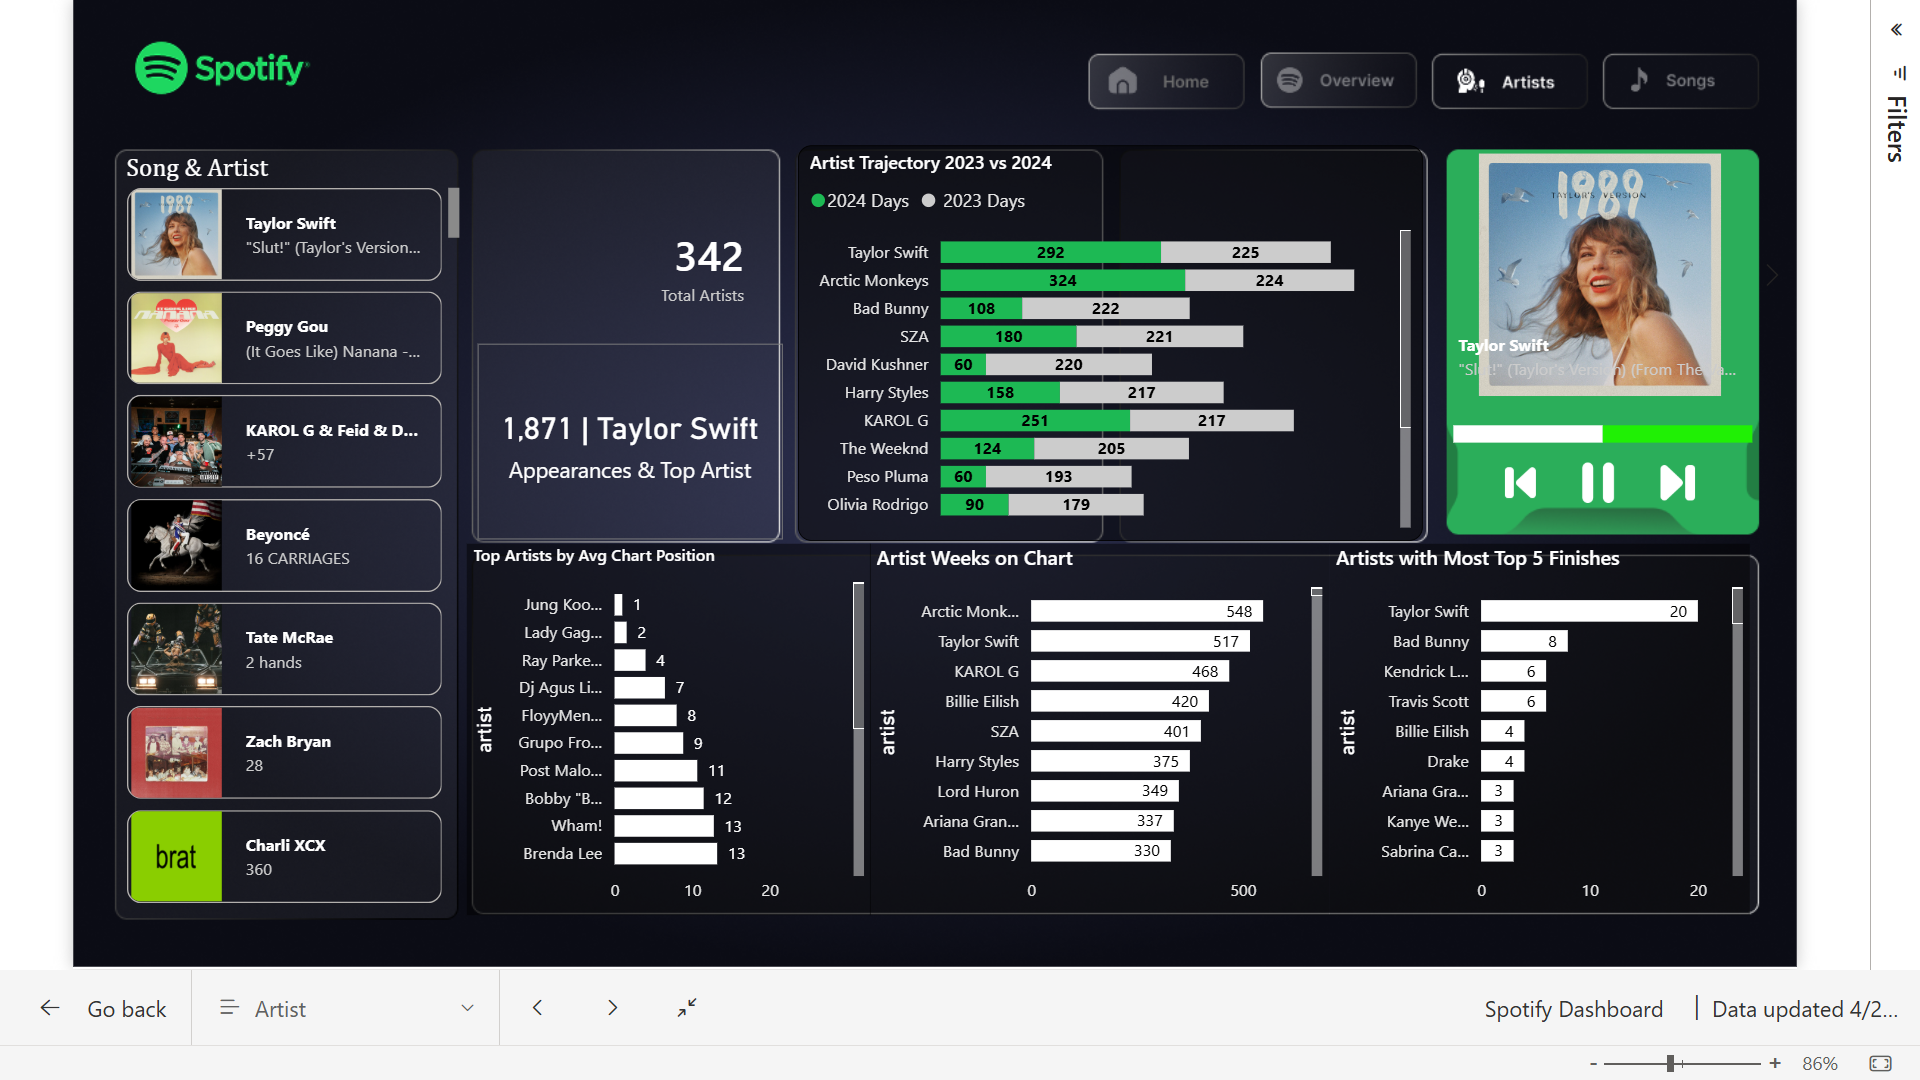

Layout of this report page (visuals, bound fields, positions):
{"tool":"powerbi","page":{"name":"Artist","canvas":[1280,720],"ordinal":2},"visuals":[{"type":"actionButton","box":[749.5,39.8,109.4,44.8],"z":0},{"type":"actionButton","box":[875.9,37,116.1,41.5],"z":1000},{"type":"actionButton","box":[1003.5,37,97.8,41.5],"z":2000},{"type":"actionButton","box":[1129.6,40.3,116.1,44.8],"z":3000},{"type":"advancedSlicerVisual","title":"Song & Artist","fields":{"Values":["Top-50-world.song"]},"box":[991.5,107.8,286.8,192.3],"z":4000},{"type":"hundredPercentStackedBarChart","fields":{"Y":["_measure.Avg Popularity Explicit","Avg(Top-50-world.popularity)"]},"box":[1019.7,285.2,232.1,66.3],"z":5000},{"type":"image","box":[1112.6,343.1,39.8,29.8],"z":6000},{"type":"image","box":[1061.2,343.1,26.5,29.8],"z":7000},{"type":"image","box":[1172.3,343.1,39.8,29.8],"z":8000},{"type":"shape","box":[1003.1,107.8,275.2,295.1],"z":9000},{"type":"clusteredBarChart","title":"Top Artists by Avg Chart Position","fields":{"Category":["Top-50-world.artist"],"Y":["_measure.Avg Position"]},"box":[292,404.3,300.2,275.7],"z":10000},{"type":"clusteredBarChart","title":"Artist Weeks on Chart","fields":{"Category":["Top-50-world.artist"],"Y":["_measure.Weeks on Chart"]},"box":[592.1,404.3,341,275.7],"z":11000},{"type":"clusteredBarChart","title":"Artists with Most Top 5 Finishes","fields":{"Category":["Top-50-world.artist"],"Y":["_measure.#1 Hits"]},"box":[933.1,404.3,312.4,275.7],"z":12000},{"type":"advancedSlicerVisual","title":"Song & Artist","fields":{"Values":["Top-50-world.song"]},"box":[34.8,112.8,257,567.1],"z":13000},{"type":"cardVisual","title":"Total Art","fields":{"Data":["_measure.Total Unique Artists"]},"box":[289.9,228.7,236.7,172.3],"z":14000},{"type":"barChart","title":"Artist Trajectory 2023 vs 2024","fields":{"Category":["Top-50-world.artist"],"Y":["_measure.Artist Days 2024","_measure.Artist Days 2023"]},"box":[538.9,107.8,464.3,293.5],"z":15000},{"type":"card","fields":{"Values":["Top Artist.Most Appearances Card1"]},"box":[299.5,0,227.1,144.9],"z":16001}]}

Visuals, with their boxes on the page's 1280x720 design canvas (x1, y1, x2, y2). These are canvas units, not pixel positions in the 1920x1080 screenshot, which may show the page scaled, cropped or inside an application window:
actionButton: box=[750, 40, 859, 85]
actionButton: box=[876, 37, 992, 78]
actionButton: box=[1004, 37, 1101, 78]
actionButton: box=[1130, 40, 1246, 85]
"Song & Artist" advancedSlicerVisual: box=[992, 108, 1278, 300]
hundredPercentStackedBarChart - _measure.Avg Popularity Explicit x Avg(Top-50-world.popularity): box=[1020, 285, 1252, 352]
image: box=[1113, 343, 1152, 373]
image: box=[1061, 343, 1088, 373]
image: box=[1172, 343, 1212, 373]
shape: box=[1003, 108, 1278, 403]
"Top Artists by Avg Chart Position" clusteredBarChart: box=[292, 404, 592, 680]
"Artist Weeks on Chart" clusteredBarChart: box=[592, 404, 933, 680]
"Artists with Most Top 5 Finishes" clusteredBarChart: box=[933, 404, 1246, 680]
"Song & Artist" advancedSlicerVisual: box=[35, 113, 292, 680]
"Total Art" cardVisual: box=[290, 229, 527, 401]
"Artist Trajectory 2023 vs 2024" barChart: box=[539, 108, 1003, 401]
card - Top Artist.Most Appearances Card1: box=[300, 0, 527, 145]
